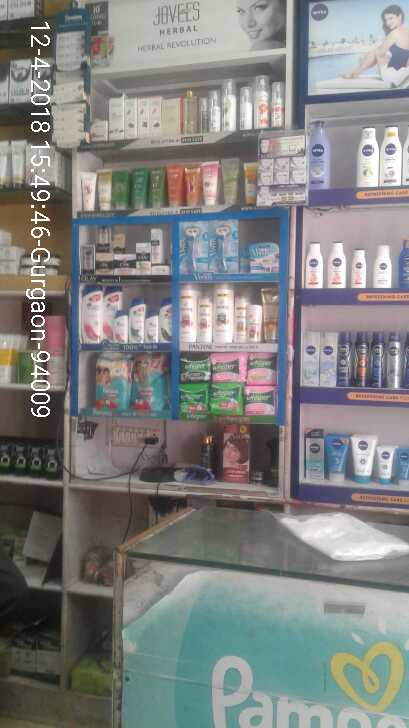venus: (208, 220, 239, 275), (178, 219, 208, 275), (250, 241, 280, 273)
